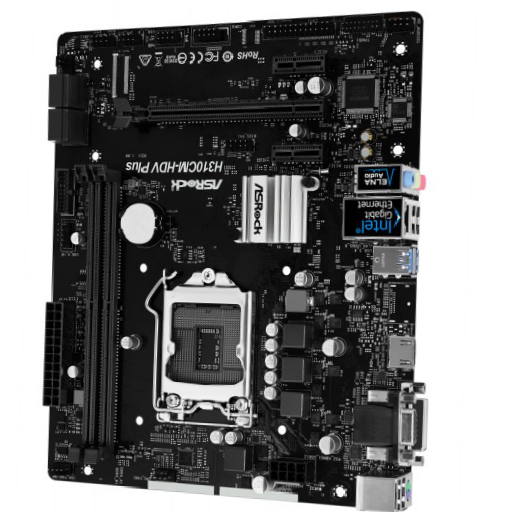CPU: (152, 267, 254, 426)
GPU: (112, 98, 328, 131)
MOTHERBOARD: (47, 11, 425, 511)
RAM: (67, 164, 123, 465)
